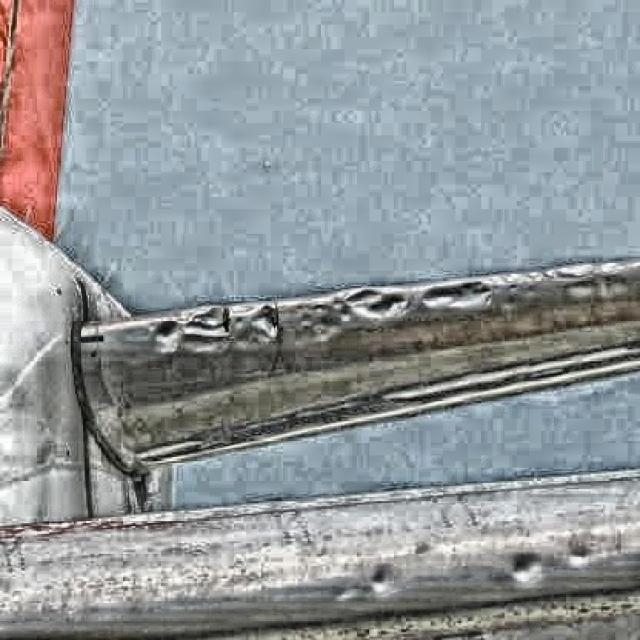dent: (337, 288, 410, 325), (423, 279, 502, 313), (560, 265, 634, 299), (182, 306, 237, 349), (246, 302, 289, 341), (356, 562, 402, 596), (508, 546, 546, 583), (154, 317, 187, 354)
